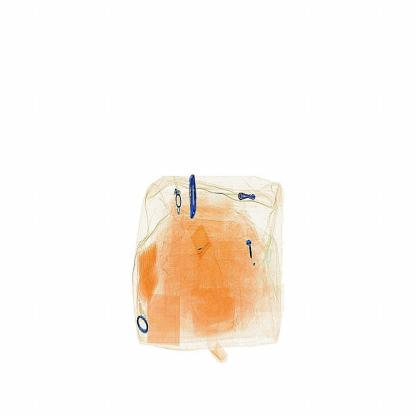knife: (179, 163, 203, 224)
